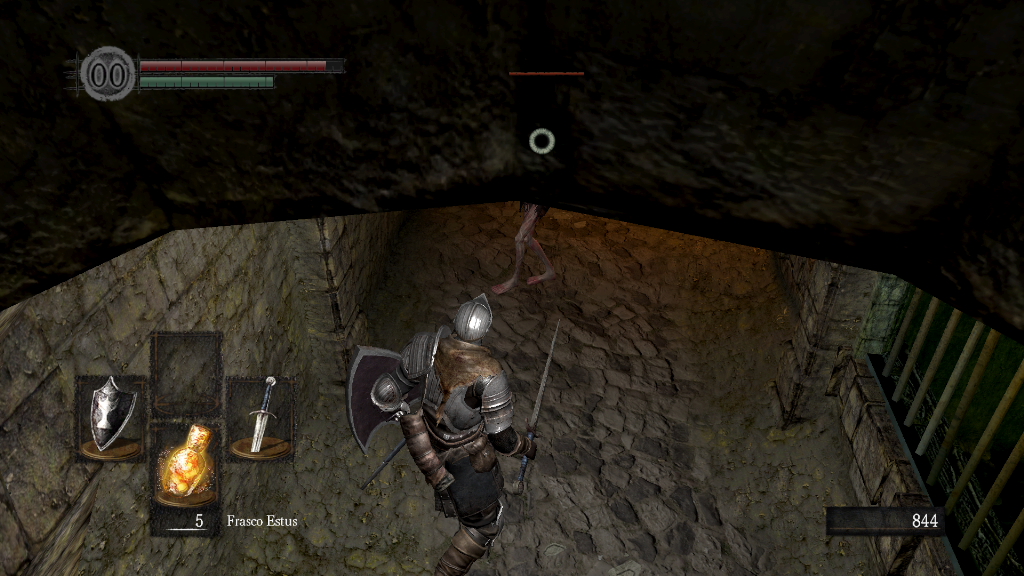health: (138, 58, 343, 71)
hollow: (485, 202, 568, 294)
humanity: (80, 45, 136, 102)
player: (346, 293, 562, 576)
souls: (825, 506, 945, 536)
stamina: (138, 74, 274, 88)
